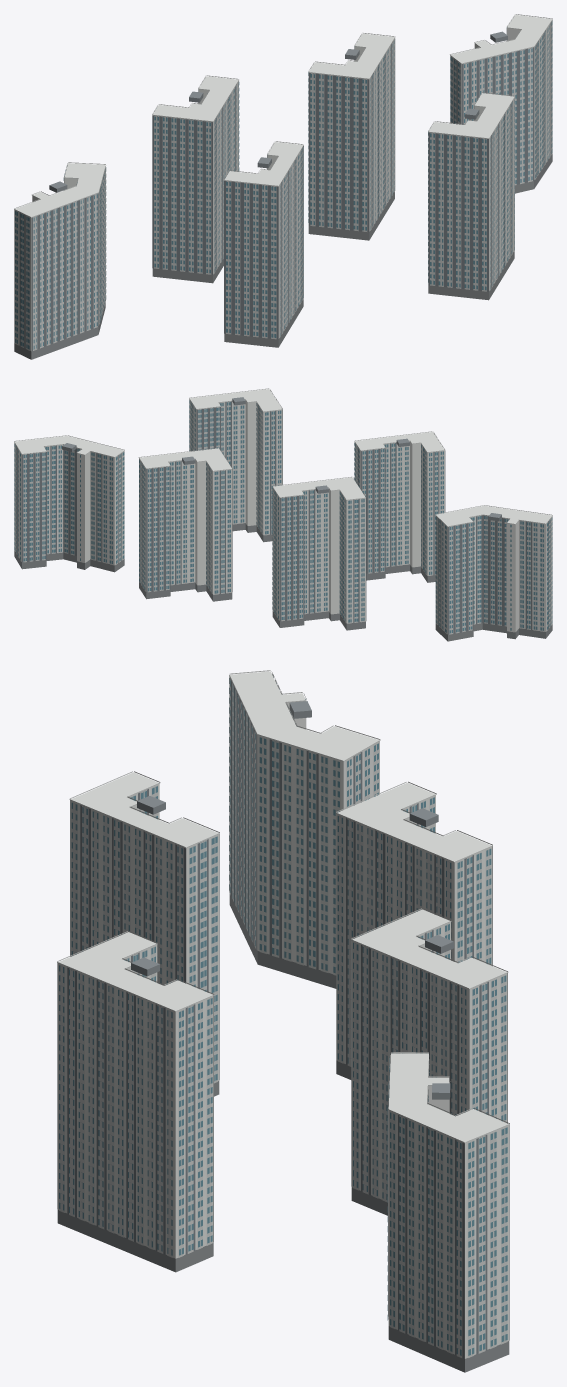
File: representative-a13778211.glb
The picture shows the model from 3 angles, top to bottom: view 1: azimuth 30°, elevation 25°; view 2: azimuth 150°, elevation 25°; view 3: azimuth 270°, elevation 25°; orthographic projection. The views are drawn at different scales.
Visible parts, largest first — view 1: A13778211_trim002, A13778211_accent002, A13778211_glass002, A13778211_wall002, A13778211_base002, A13778211_roof002; view 2: A13778211_trim002, A13778211_wall002, A13778211_glass002, A13778211_accent002, A13778211_base002, A13778211_roof002; view 3: A13778211_trim002, A13778211_wall002, A13778211_glass002, A13778211_accent002, A13778211_base002, A13778211_roof002.
Boxes of the visible parts, x1=… form: A13778211_trim002: x1=14, y1=14, x2=552, y2=350; A13778211_accent002: x1=19, y1=20, x2=552, y2=351; A13778211_glass002: x1=15, y1=21, x2=552, y2=349; A13778211_wall002: x1=14, y1=15, x2=552, y2=351; A13778211_base002: x1=14, y1=154, x2=552, y2=359; A13778211_roof002: x1=49, y1=31, x2=507, y2=192; A13778211_trim002: x1=14, y1=388, x2=552, y2=634; A13778211_wall002: x1=14, y1=389, x2=552, y2=634; A13778211_glass002: x1=14, y1=400, x2=552, y2=633; A13778211_accent002: x1=16, y1=401, x2=550, y2=634; A13778211_base002: x1=14, y1=523, x2=552, y2=641; A13778211_roof002: x1=62, y1=397, x2=501, y2=521; A13778211_trim002: x1=57, y1=670, x2=509, y2=1357; A13778211_wall002: x1=57, y1=671, x2=509, y2=1358; A13778211_glass002: x1=59, y1=677, x2=507, y2=1355; A13778211_accent002: x1=57, y1=676, x2=509, y2=1358; A13778211_base002: x1=57, y1=893, x2=509, y2=1372; A13778211_roof002: x1=131, y1=701, x2=453, y2=1099.
Size of the model in its own units: 295 by 78 by 119.
